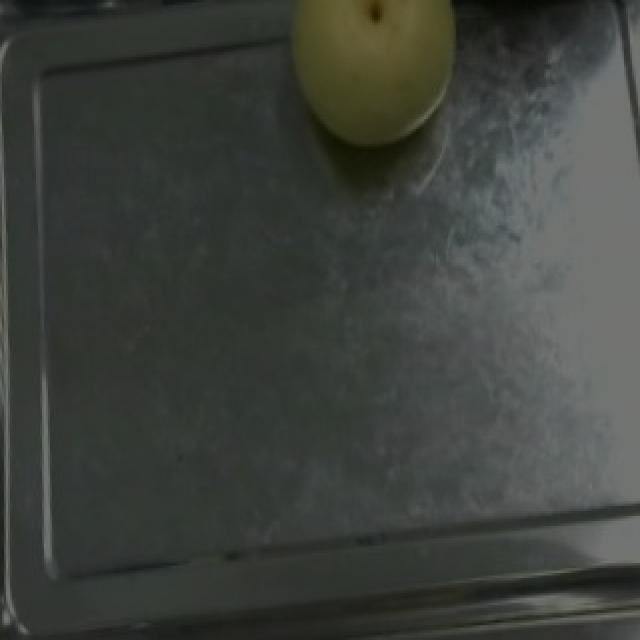Fruit: (268, 0, 476, 171)
